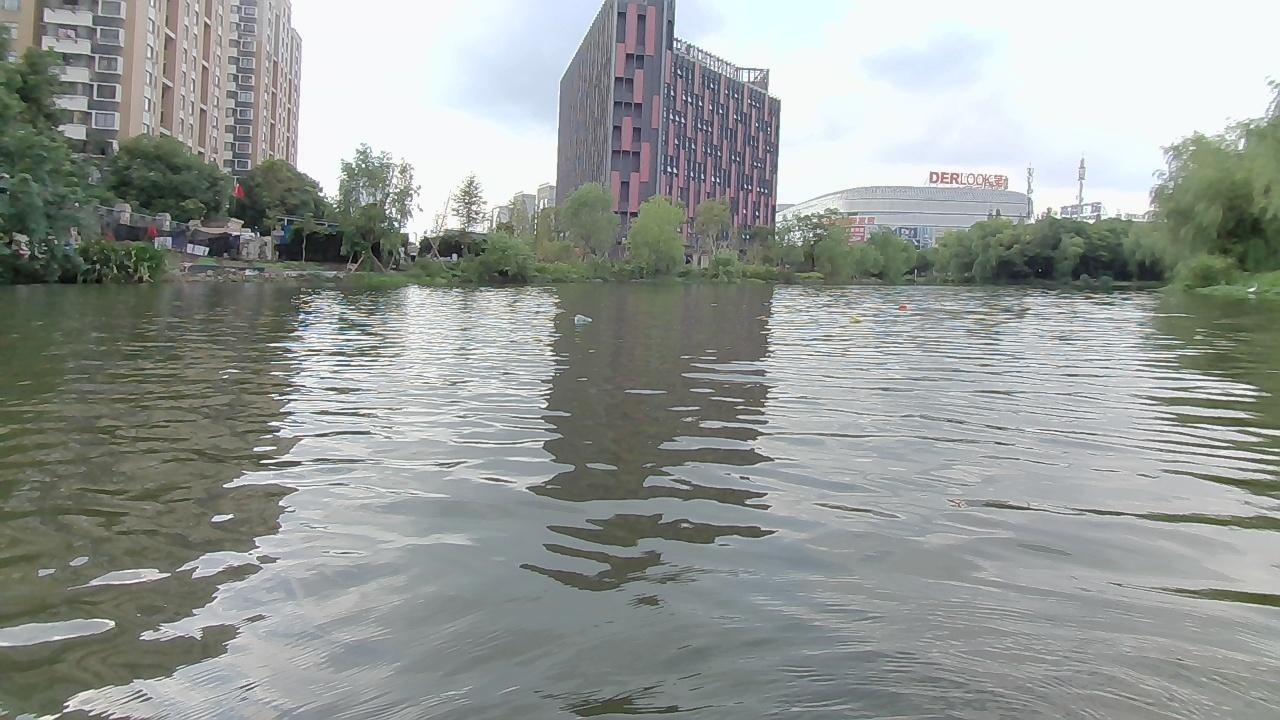bottle: (569, 312, 596, 325), (893, 302, 916, 314), (844, 312, 865, 325)
